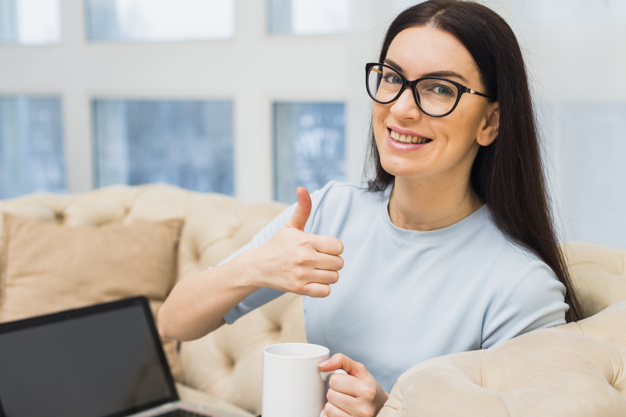thumbsup: (284, 185, 344, 297)
